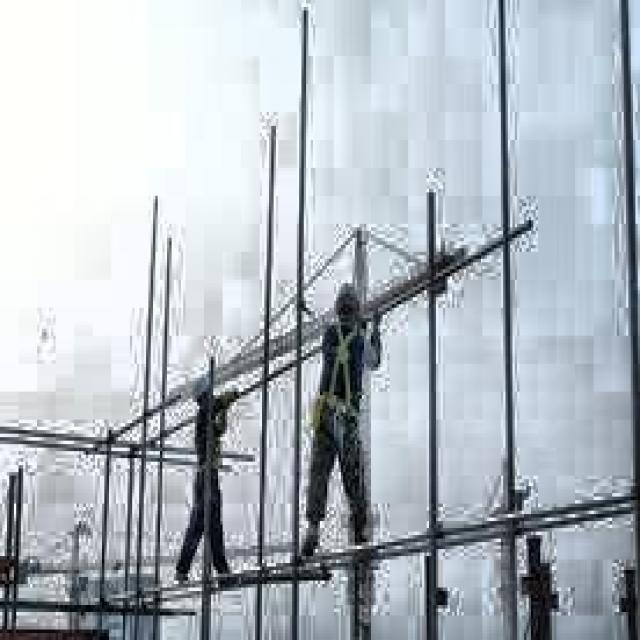Arnes_seguridad: (312, 315, 370, 423)
